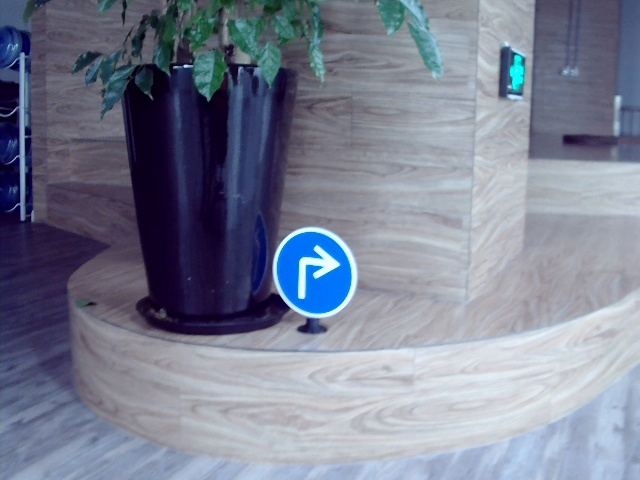turn_right: (291, 242, 337, 302)
